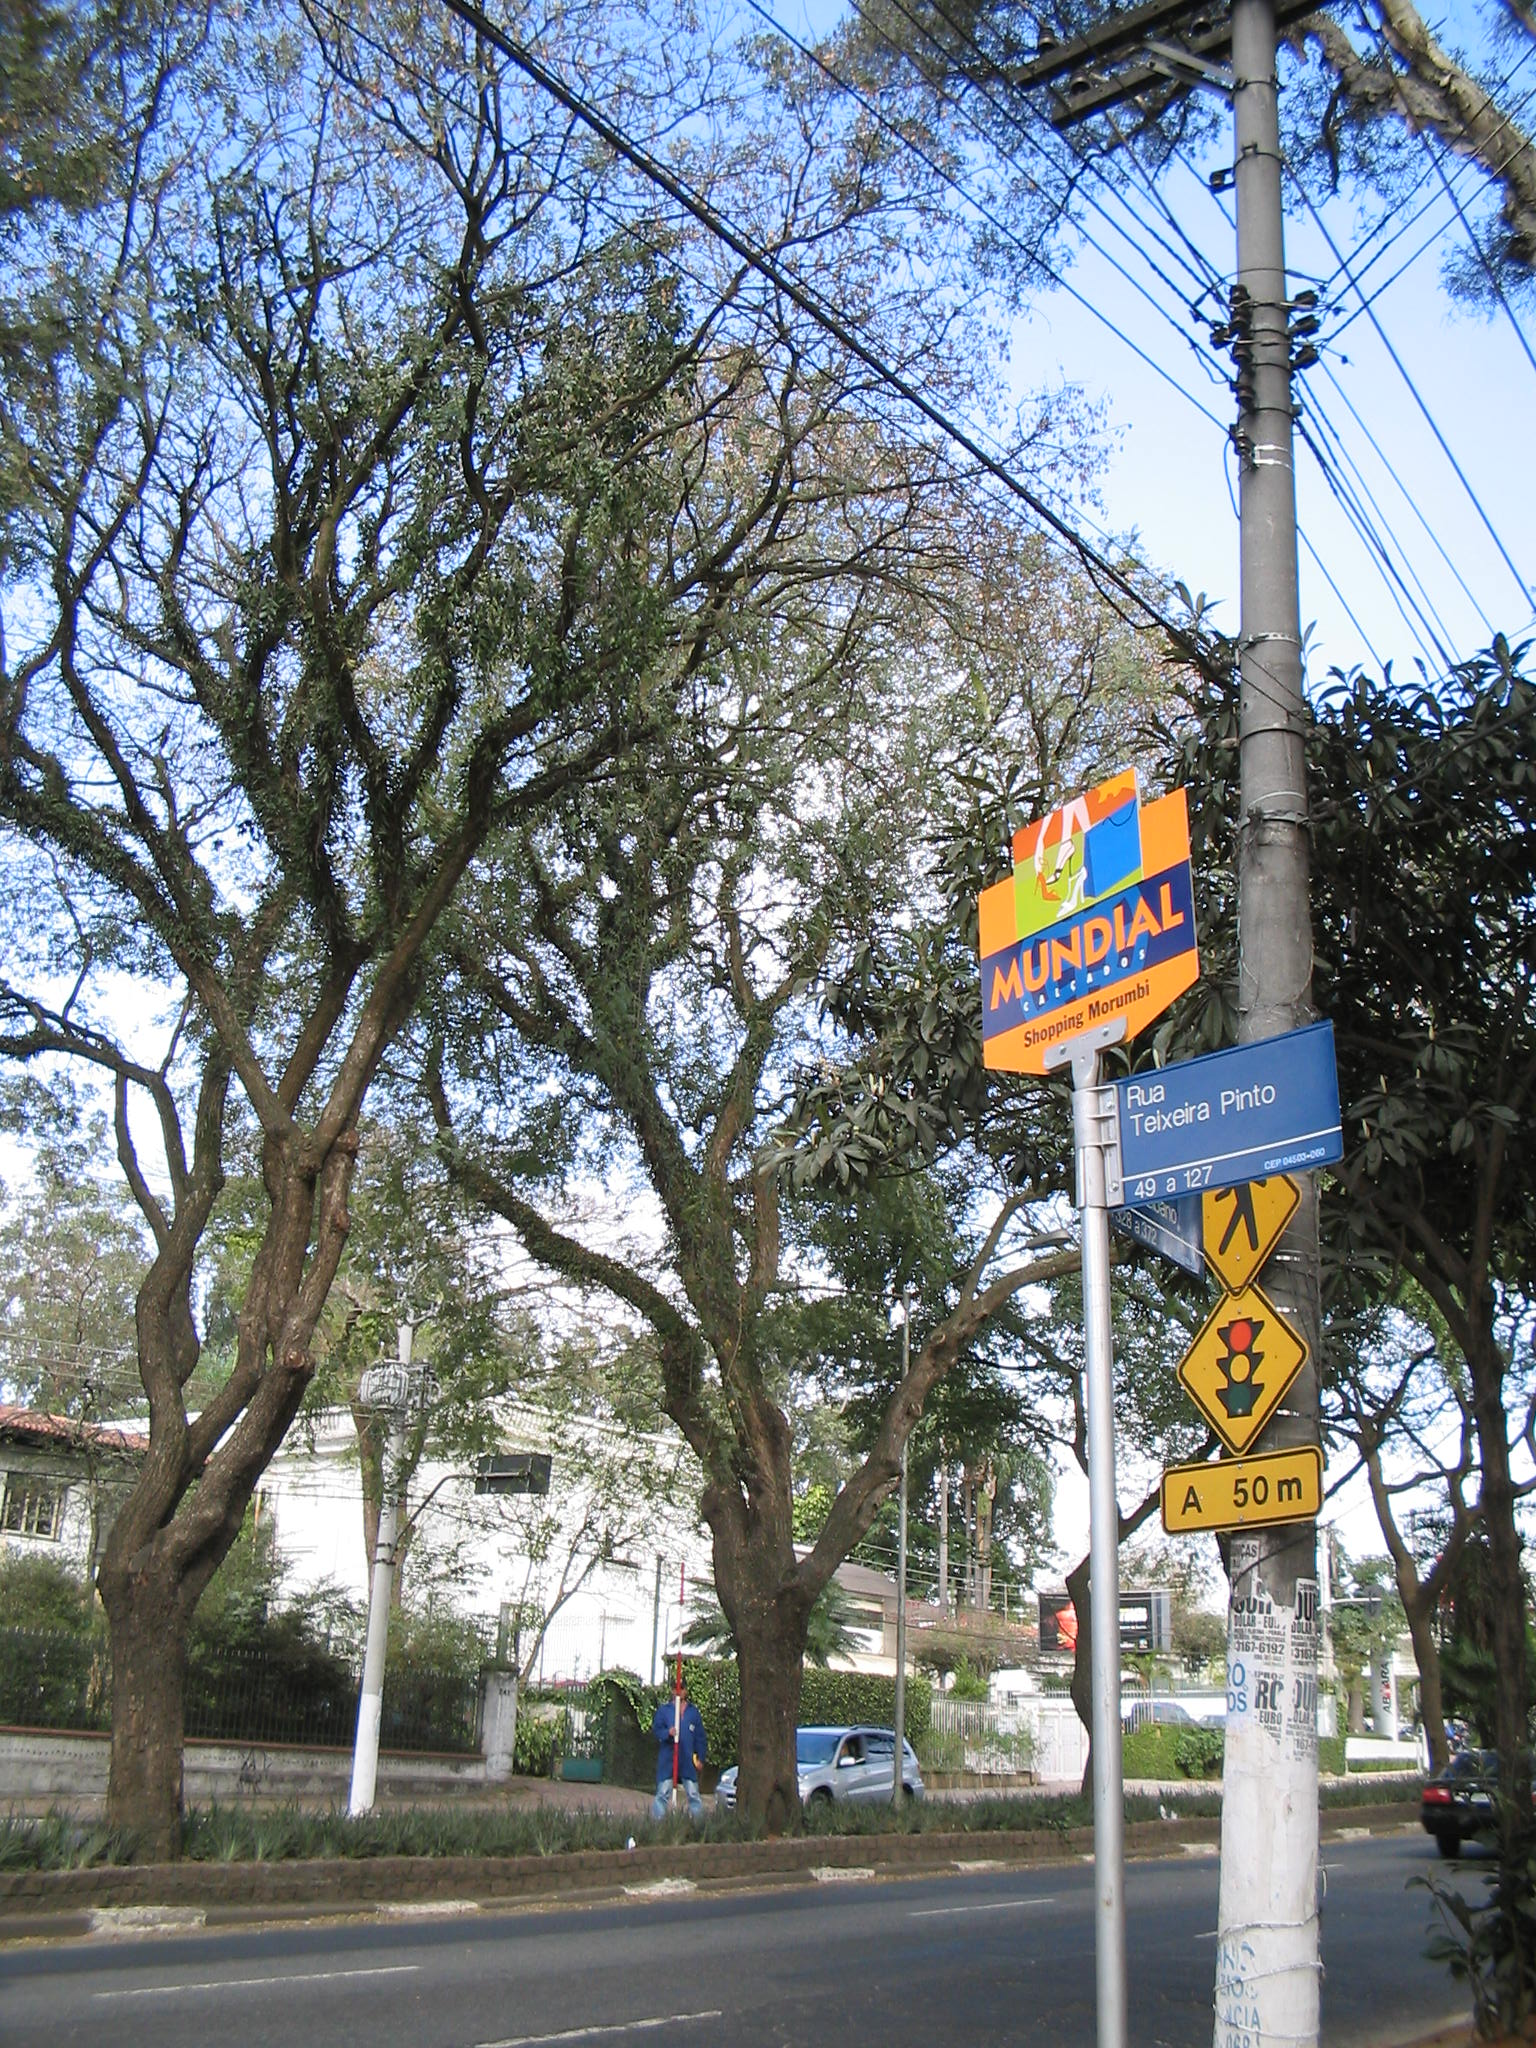stem: (69, 1558, 236, 1854), (699, 1634, 842, 1837)
tree: (8, 3, 1134, 1858), (353, 350, 1249, 1842)
